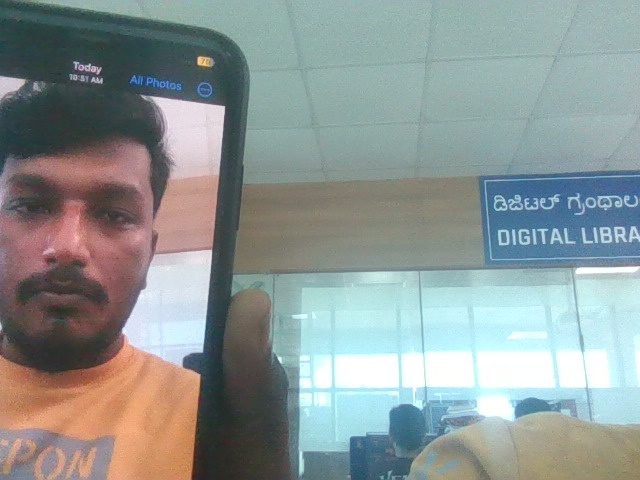fake: (0, 46, 238, 384)
